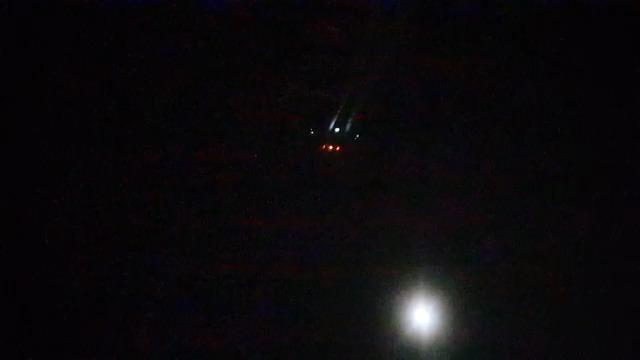Plane: (296, 105, 380, 152)
